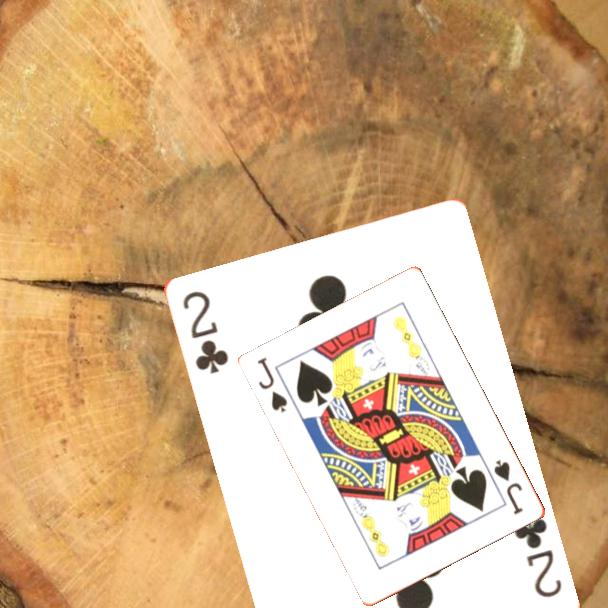c02: (509, 511, 564, 600), (178, 287, 231, 377)
s11: (254, 354, 291, 416), (491, 456, 527, 518)
